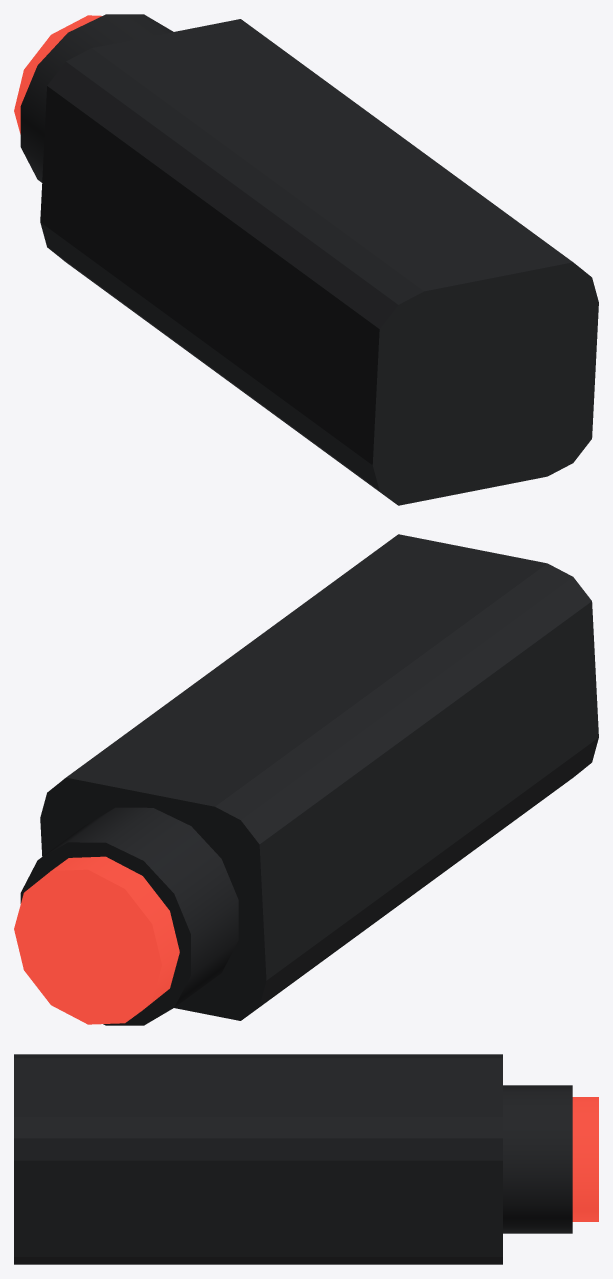
The model's file is attachment_assault_laser.glb.
3 renders of one model, top to bottom at view 1: azimuth 30°, elevation 25°; view 2: azimuth 150°, elevation 25°; view 3: azimuth 270°, elevation 25°, orthographic. The views are drawn at different scales.
Parts seen in each view (by area): view 1: attachment_assault_laser__assault_laser__assault_laser__body, attachment_assault_laser__assault_laser__assault_laser__emit; view 2: attachment_assault_laser__assault_laser__assault_laser__body, attachment_assault_laser__assault_laser__assault_laser__emit; view 3: attachment_assault_laser__assault_laser__assault_laser__body, attachment_assault_laser__assault_laser__assault_laser__emit.
Boxes of the visible parts, <box> form: attachment_assault_laser__assault_laser__assault_laser__body: <box>20,14,598,505</box>; attachment_assault_laser__assault_laser__assault_laser__emit: <box>14,15,101,134</box>; attachment_assault_laser__assault_laser__assault_laser__body: <box>20,534,598,1025</box>; attachment_assault_laser__assault_laser__assault_laser__emit: <box>14,856,179,1024</box>; attachment_assault_laser__assault_laser__assault_laser__body: <box>14,1054,572,1264</box>; attachment_assault_laser__assault_laser__assault_laser__emit: <box>572,1097,598,1221</box>.
Size of the model in its own units: 0.022 by 0.02 by 0.067.
